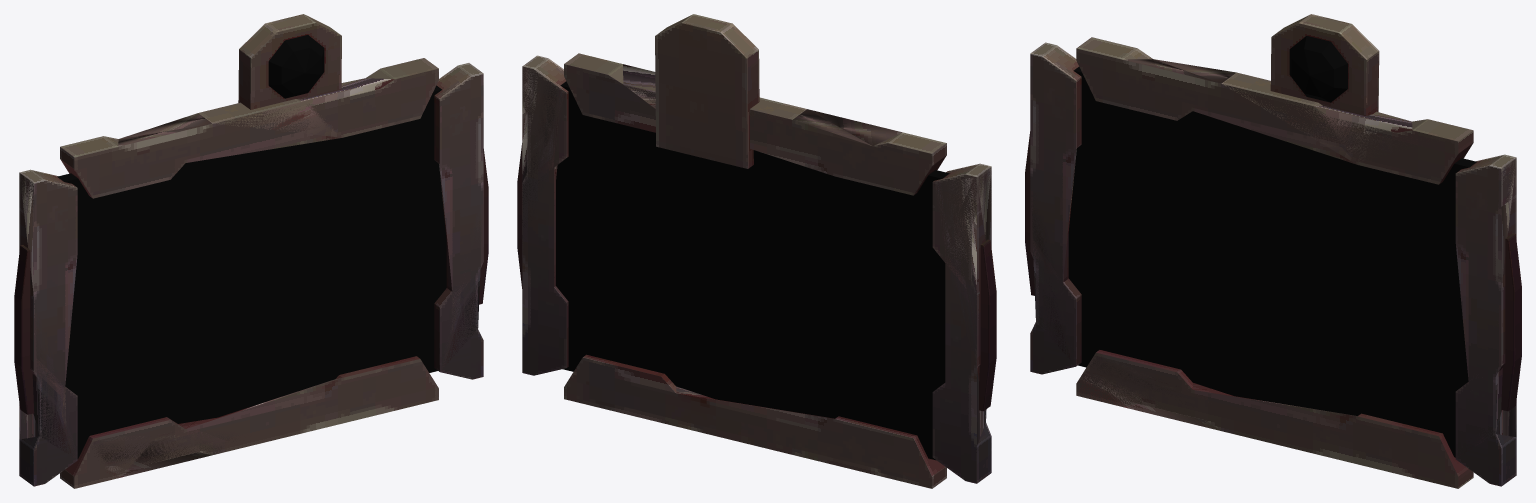
File: item_film_filter_crisp.glb
The picture shows the model from 3 angles, left to right: view 1: azimuth 30°, elevation 25°; view 2: azimuth 150°, elevation 25°; view 3: azimuth 330°, elevation 25°; orthographic projection. The views are drawn at different scales.
Visible parts, largest first — view 1: Cube, IndicatorTab; view 2: Cube, IndicatorTab; view 3: Cube, IndicatorTab.
Part boxes in pixels (x1,y1,x2,y2): Cube: [14, 58, 488, 488]; IndicatorTab: [238, 14, 341, 109]; Cube: [517, 53, 996, 488]; IndicatorTab: [655, 14, 759, 168]; Cube: [1025, 37, 1521, 488]; IndicatorTab: [1270, 14, 1379, 115].
Bounding box in the file's own units: 0.2824 × 0.2327 × 0.0219.
Materials: 1 (1 with a texture image).
